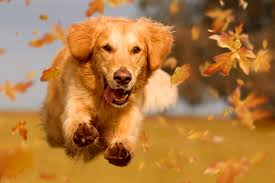Golden Retriever: (28, 7, 187, 168)
